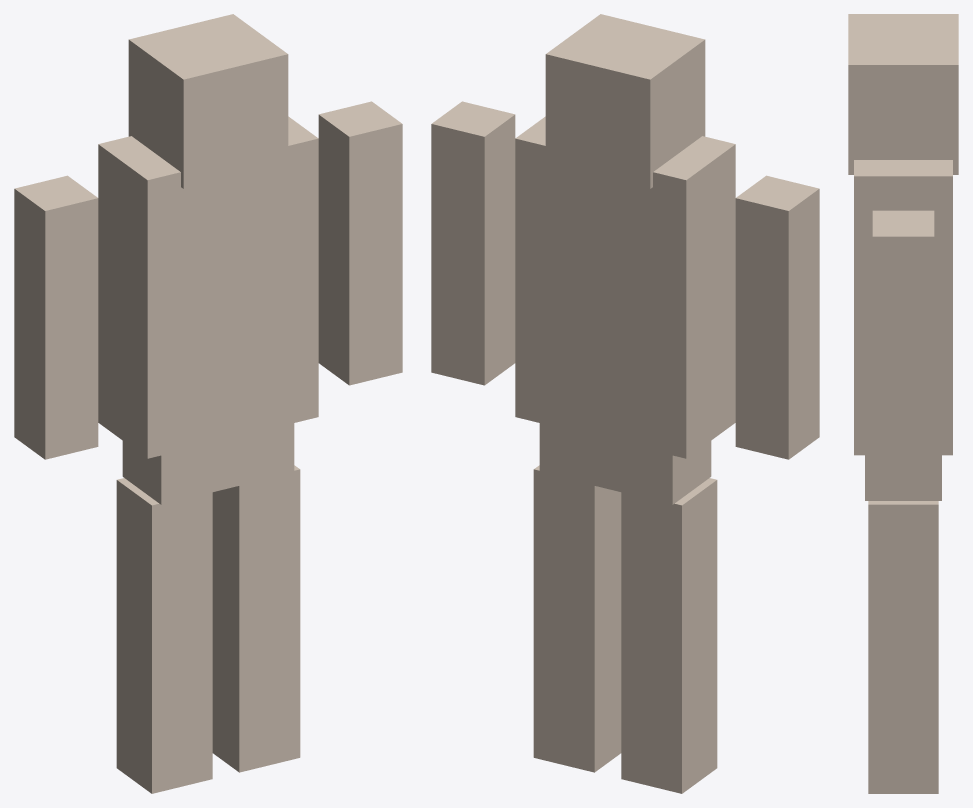
File: human_base_morph.glb
3 views of the same model, side by side, from view 1: azimuth 30°, elevation 25°; view 2: azimuth 150°, elevation 25°; view 3: azimuth 270°, elevation 25° (orthographic).
Visible parts, largest first — view 1: HumanBaseMorph; view 2: HumanBaseMorph; view 3: HumanBaseMorph.
Part boxes in pixels (left/top/right/bottom): HumanBaseMorph: left=14, top=14, right=402, bottom=793; HumanBaseMorph: left=431, top=14, right=819, bottom=793; HumanBaseMorph: left=848, top=14, right=958, bottom=793.
Bounding box in the file's own units: 1.88 × 3.6 × 0.5.
